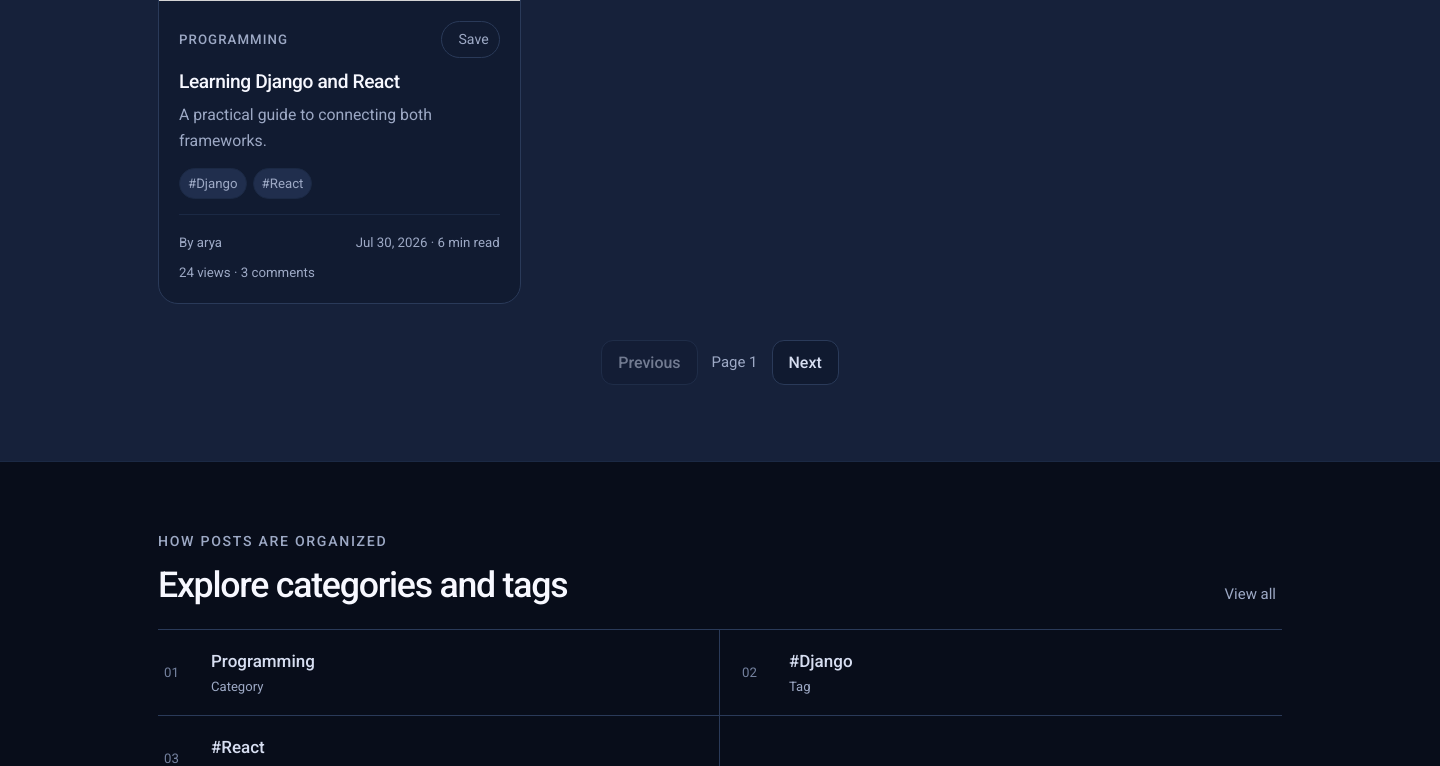
it: PublicPostsPage › loads next and previous pages
(page scrolled)
Expected: the link "Learning Django and React" is shown, top-left (179, 70), bottom-right (400, 92)
Expected: the button "Previous" is disabled, top-left (601, 340), bottom-right (698, 385)
Click the button "Next" at (805, 362), box top-left (772, 340), bottom-right (839, 385)
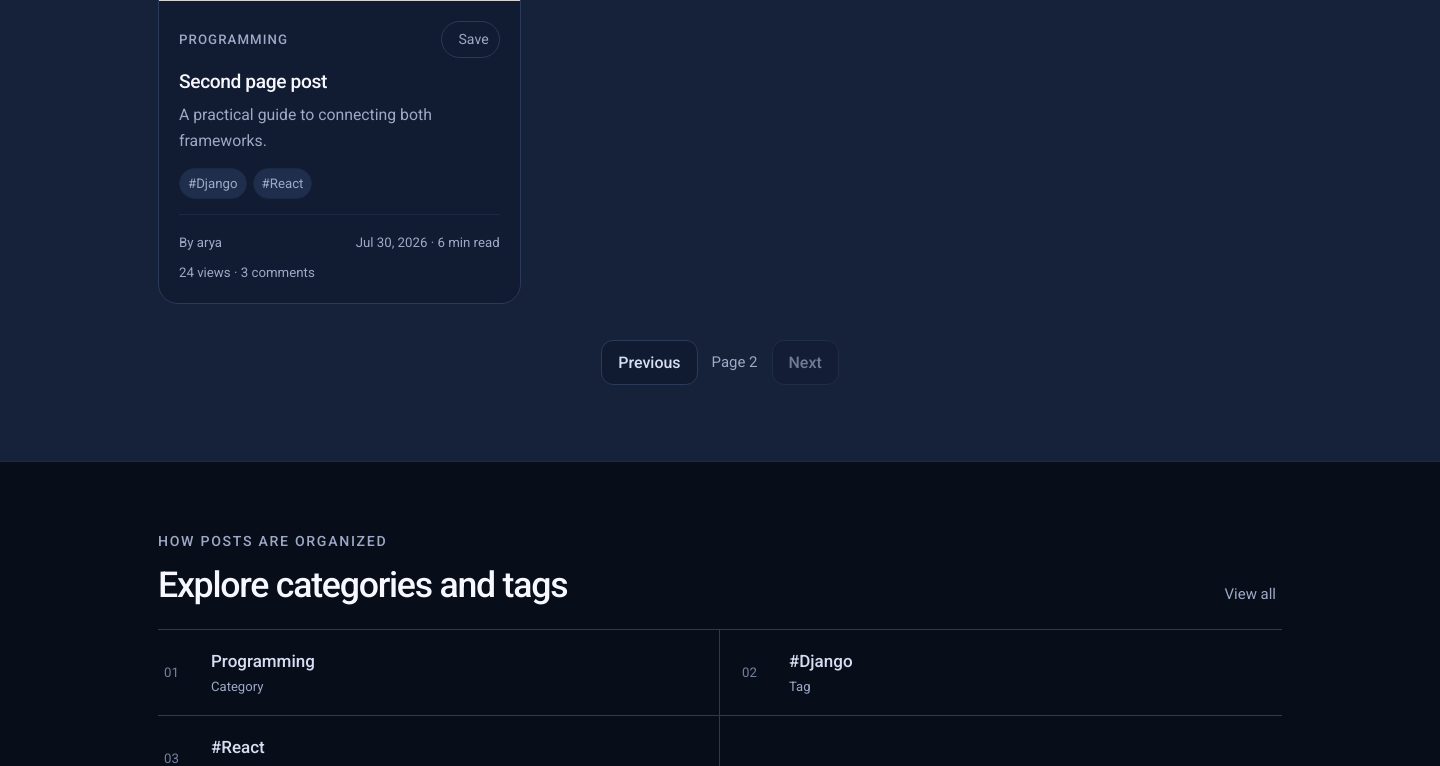
Result: the link "Second page post" is shown at top-left (179, 70), bottom-right (327, 92)
Result: the text "Page 2" is shown at top-left (712, 350), bottom-right (758, 374)
Result: the button "Next" is disabled at top-left (772, 340), bottom-right (839, 385)
Click the button "Previous" at (649, 362), box top-left (601, 340), bottom-right (698, 385)
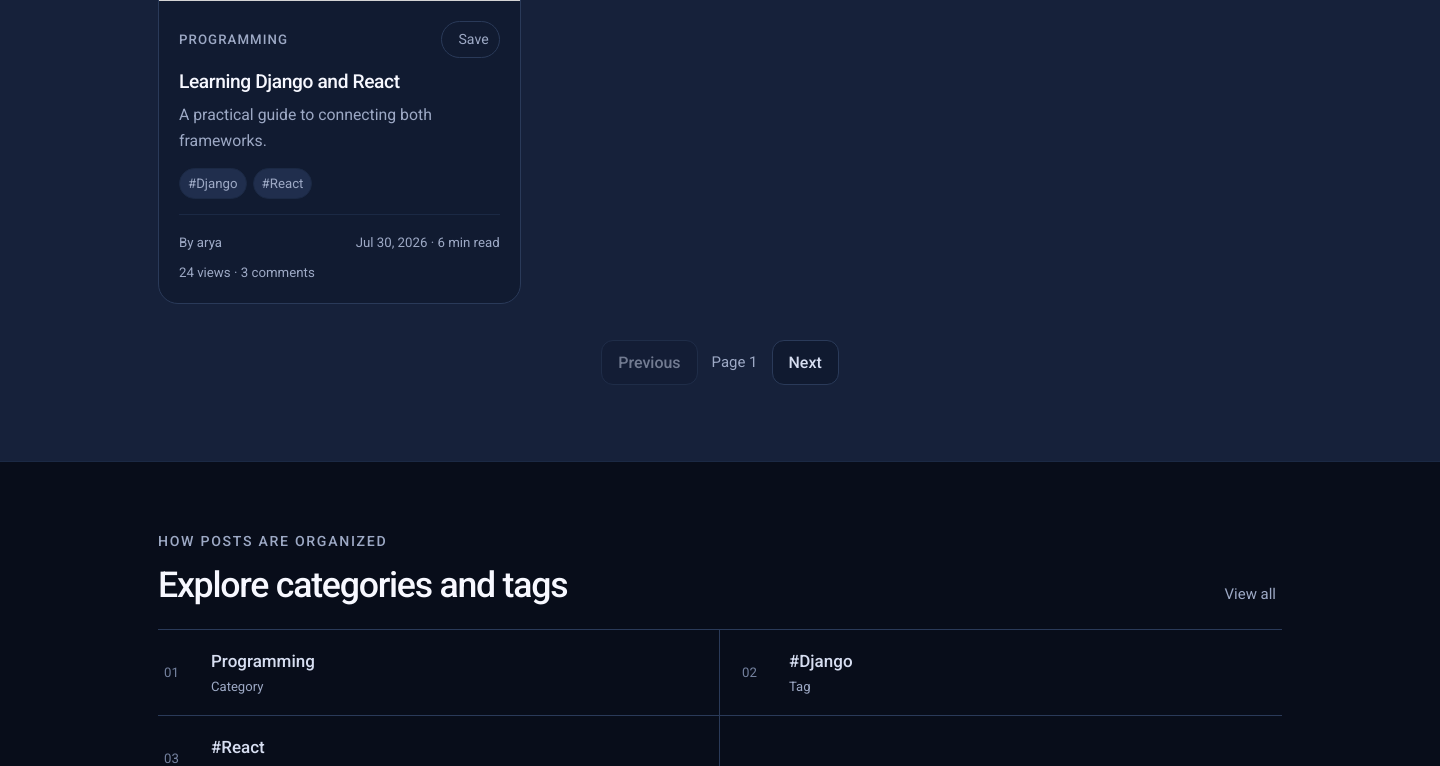
Result: the link "Learning Django and React" is shown at top-left (179, 70), bottom-right (400, 92)
